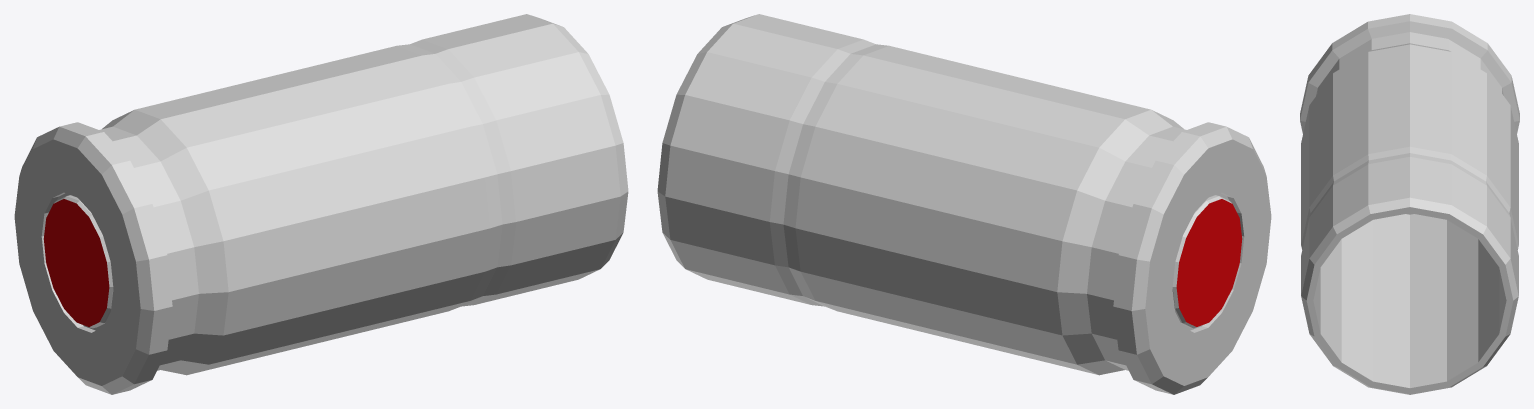
Rendered from SmgShell.fbx.
3 renders of one model, left to right at view 1: azimuth 30°, elevation 25°; view 2: azimuth 150°, elevation 25°; view 3: azimuth 270°, elevation 25°, orthographic. The views are drawn at different scales.
Visible parts, largest first — view 1: HandgunRound; view 2: HandgunRound; view 3: HandgunRound.
Boxes of the visible parts, box(x1,y1,x2,y2) form: HandgunRound: box(14, 14, 628, 394); HandgunRound: box(657, 14, 1271, 394); HandgunRound: box(1300, 14, 1519, 394).
Size of the model in its own units: 0.0389 by 0.019 by 0.019.
